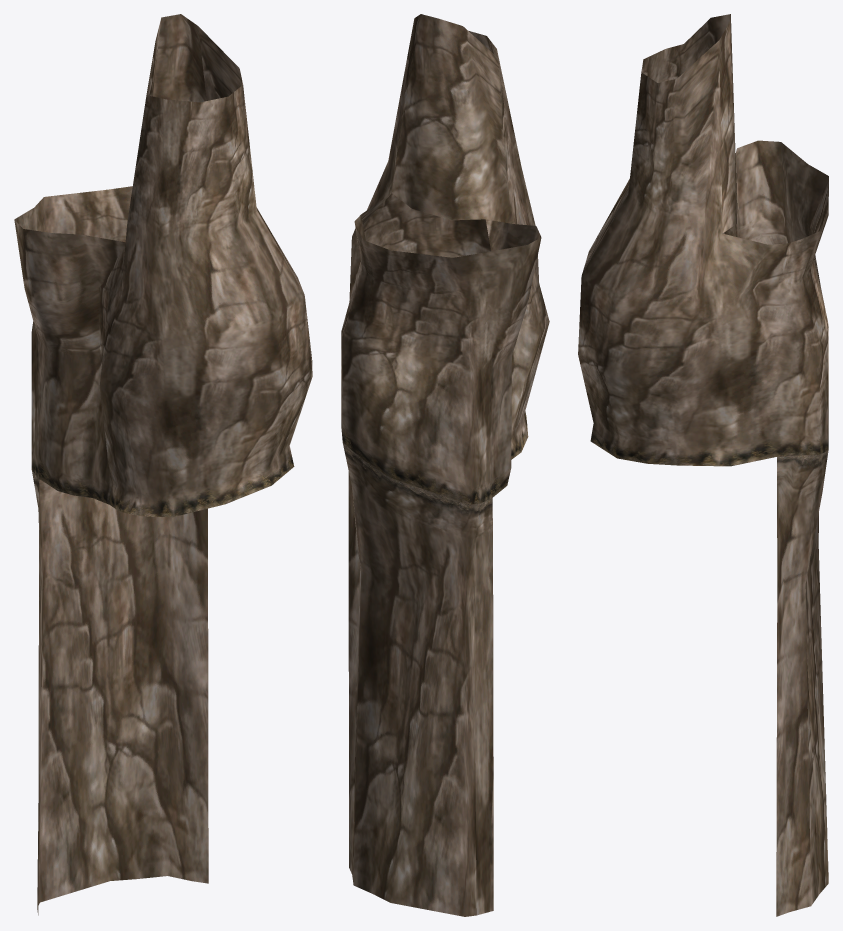
The model's file is OVERHILL_A_01_LINE50.fbx.
3 renders of one model, left to right at view 1: azimuth 30°, elevation 25°; view 2: azimuth 150°, elevation 25°; view 3: azimuth 270°, elevation 25°, orthographic. The views are drawn at different scales.
Parts seen in each view (by area): view 1: OVERHILL_A_01_LINE50; view 2: OVERHILL_A_01_LINE50; view 3: OVERHILL_A_01_LINE50.
Boxes of the visible parts, x1=… form: OVERHILL_A_01_LINE50: x1=14, y1=14, x2=312, y2=915; OVERHILL_A_01_LINE50: x1=341, y1=14, x2=549, y2=916; OVERHILL_A_01_LINE50: x1=578, y1=14, x2=828, y2=916.
Bounding box in the file's own units: 74740 × 278455 × 72815.
Materials: 3 (3 with a texture image).
